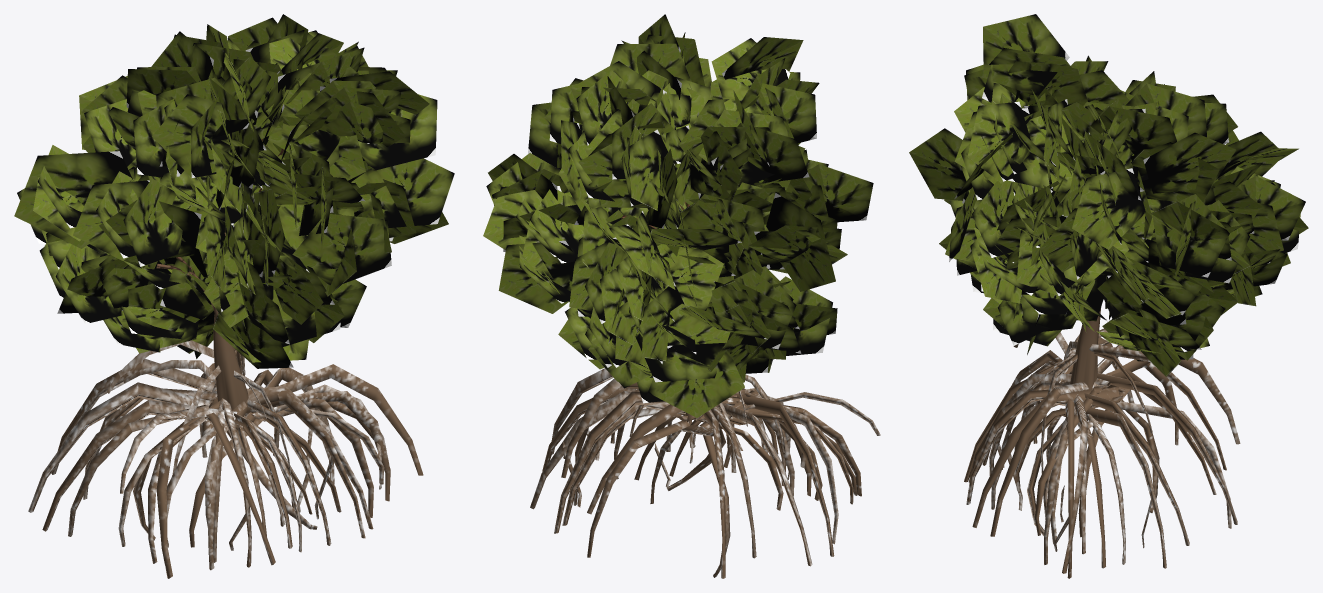
Rendered from Tree003.fbx.
3 views of the same model, side by side, from view 1: azimuth 30°, elevation 25°; view 2: azimuth 150°, elevation 25°; view 3: azimuth 270°, elevation 25° (orthographic). The views are drawn at different scales.
Visible parts, largest first — view 1: polySurface437, polySurface439, polySurface433, polySurface176, polySurface328, polySurface409, polySurface6, polySurface20, polySurface343, polySurface93, polySurface411, polySurface12 (+93 smaller); view 2: polySurface344, polySurface439, polySurface395, polySurface342, polySurface176, polySurface363, polySurface151, polySurface366, polySurface301, polySurface398, polySurface181, polySurface261 (+78 smaller); view 3: polySurface269, polySurface317, polySurface442, polySurface267, polySurface297, polySurface440, polySurface158, polySurface378, polySurface139, polySurface175, polySurface115, polySurface147 (+72 smaller).
Part boxes in pixels (left/top/right/bottom): polySurface437: left=292, top=214, right=391, bottom=285; polySurface439: left=14, top=151, right=133, bottom=248; polySurface433: left=351, top=158, right=454, bottom=227; polySurface176: left=123, top=178, right=182, bottom=266; polySurface328: left=152, top=94, right=231, bottom=178; polySurface409: left=345, top=94, right=437, bottom=170; polySurface6: left=28, top=382, right=213, bottom=512; polySurface20: left=42, top=400, right=237, bottom=531; polySurface343: left=73, top=180, right=149, bottom=260; polySurface93: left=213, top=312, right=293, bottom=368; polySurface411: left=268, top=89, right=369, bottom=160; polySurface12: left=278, top=364, right=423, bottom=475; polySurface344: left=648, top=342, right=744, bottom=417; polySurface439: left=766, top=193, right=835, bottom=291; polySurface395: left=635, top=303, right=730, bottom=382; polySurface342: left=498, top=240, right=574, bottom=313; polySurface176: left=785, top=164, right=873, bottom=222; polySurface363: left=651, top=244, right=723, bottom=310; polySurface151: left=737, top=123, right=809, bottom=182; polySurface366: left=679, top=194, right=764, bottom=262; polySurface301: left=629, top=129, right=676, bottom=210; polySurface398: left=711, top=270, right=796, bottom=349; polySurface181: left=755, top=83, right=816, bottom=143; polySurface261: left=690, top=131, right=742, bottom=200; polySurface269: left=983, top=14, right=1069, bottom=96; polySurface317: left=1072, top=168, right=1145, bottom=249; polySurface442: left=1143, top=132, right=1235, bottom=193; polySurface267: left=967, top=101, right=1030, bottom=183; polySurface297: left=909, top=128, right=966, bottom=200; polySurface440: left=1152, top=194, right=1229, bottom=277; polySurface158: left=1090, top=106, right=1176, bottom=154; polySurface378: left=1008, top=114, right=1083, bottom=193; polySurface139: left=972, top=180, right=1019, bottom=257; polySurface175: left=1237, top=176, right=1305, bottom=240; polySurface115: left=1125, top=83, right=1206, bottom=137; polySurface147: left=1150, top=201, right=1231, bottom=260.
Size of the model in its own units: 875 by 1219 by 878.
